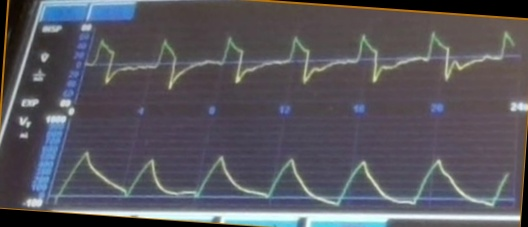Premature_cycling Flow: (93, 26, 517, 99)
Premature_cycling Volume: (58, 143, 511, 208)
